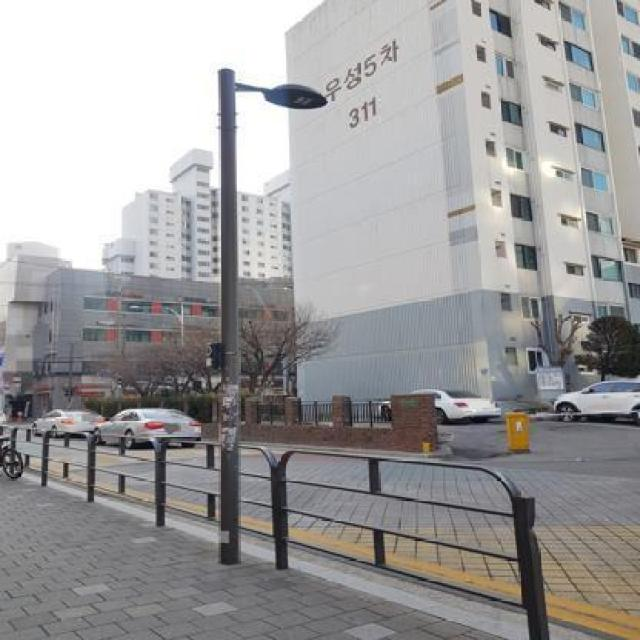fence: (281, 441, 559, 640), (56, 424, 176, 526)
pole: (200, 60, 250, 574)
